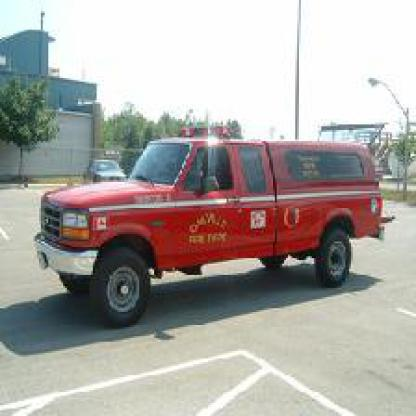emergency: (30, 119, 396, 330)
